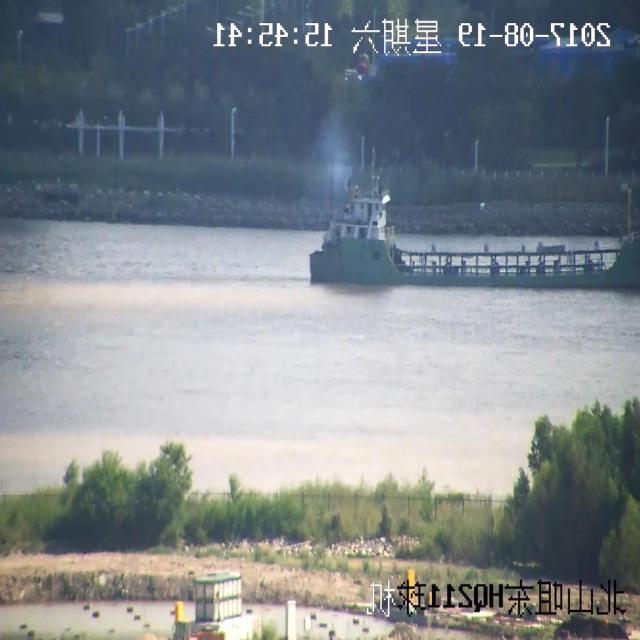houseboat: (293, 172, 636, 286)
